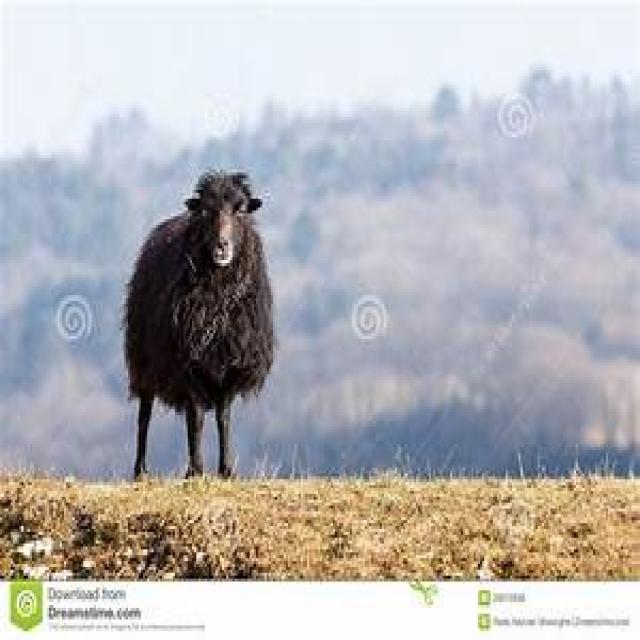animal: (102, 127, 305, 518)
